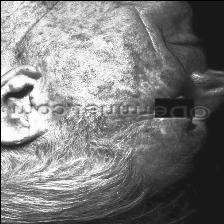Potentially Malignant Skin Tumors: (200, 94, 216, 104), (132, 91, 140, 99)
